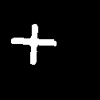single_crochet: (11, 24, 55, 64)
